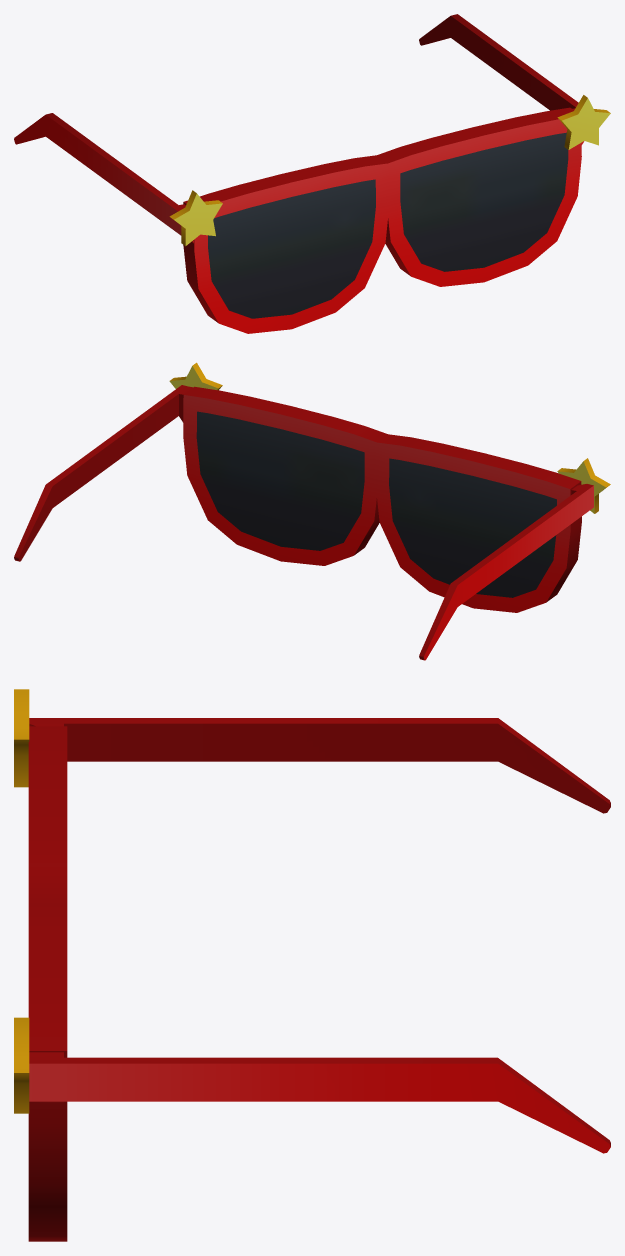
The model's file is Star008.fbx.
3 renders of one model, top to bottom at view 1: azimuth 30°, elevation 25°; view 2: azimuth 150°, elevation 25°; view 3: azimuth 270°, elevation 25°, orthographic. The views are drawn at different scales.
Parts seen in each view (by area): view 1: Star008; view 2: Star008; view 3: Star008.
Boxes of the visible parts, bbox=[...] form: Star008: bbox=[14, 14, 610, 333]; Star008: bbox=[14, 362, 610, 660]; Star008: bbox=[14, 689, 610, 1241].
Bounding box in the file's own units: 92.57 × 33.05 × 63.64.
